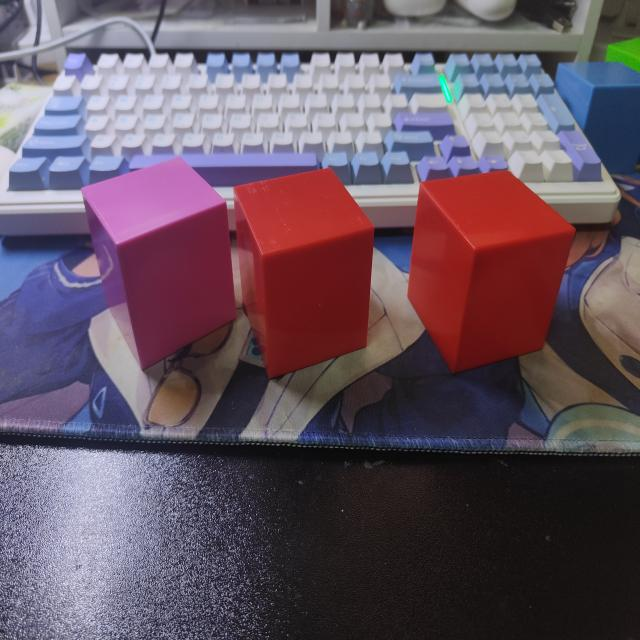pink: (80, 155, 236, 369)
red: (408, 167, 577, 379), (234, 167, 377, 377)
